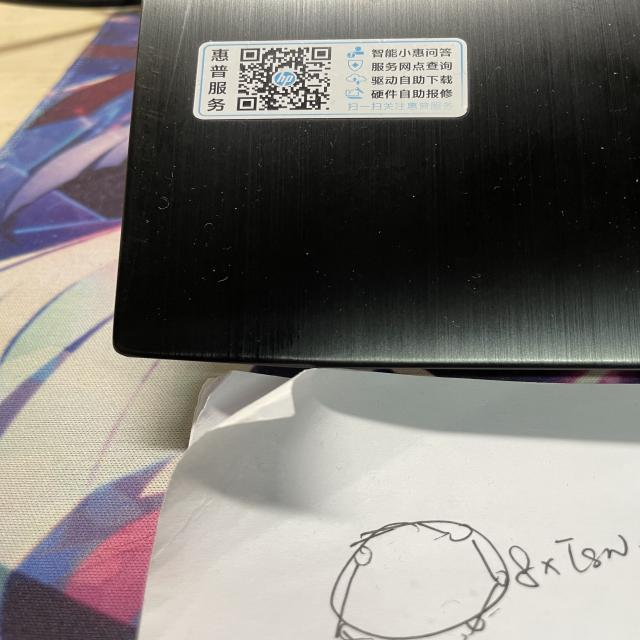qr_code: (237, 47, 332, 111)
